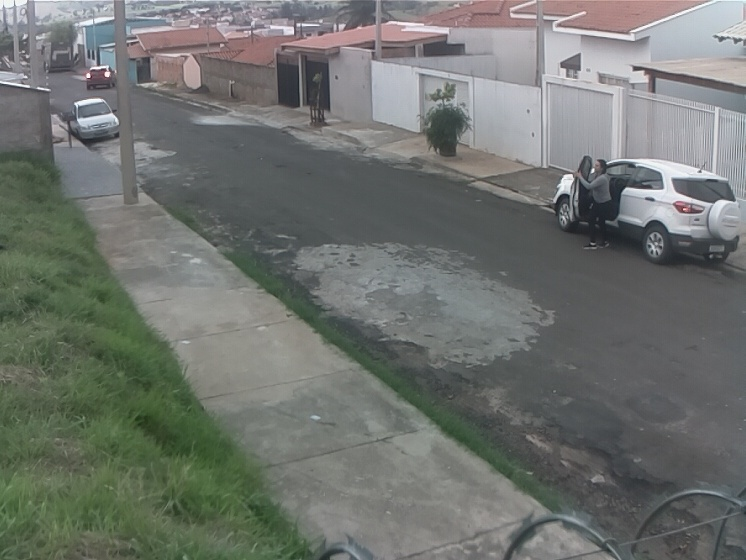person: (573, 159, 621, 254)
